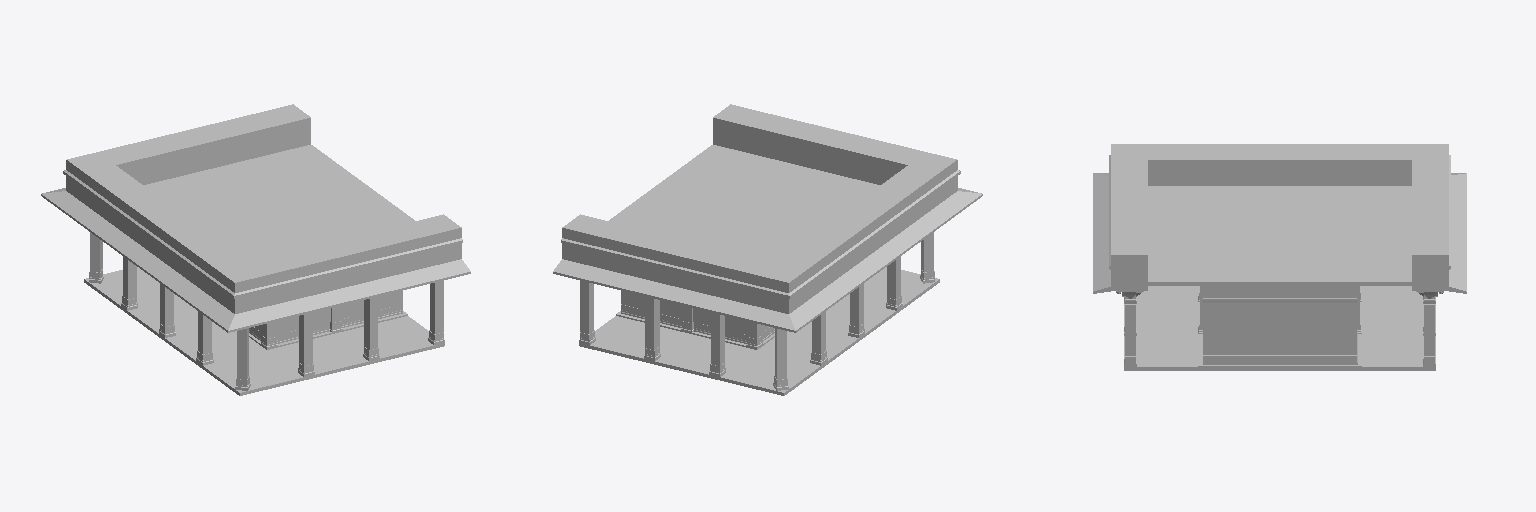
File: Construcao_01_3.obj
The picture shows the model from 3 angles: view 1: azimuth 30°, elevation 25°; view 2: azimuth 150°, elevation 25°; view 3: azimuth 270°, elevation 25°; orthographic projection.
Visible parts, largest first — view 1: Estrutura1, Pilares1 polySurface29, Pilares1 polySurface27, Pilares1 polySurface28, Pilares1 polySurface26, Pilares1 polySurface25, Pilares1 polySurface24, polySurface23 Pilares1, Pilares1 polySurface22; view 2: Estrutura1, Pilares1 polySurface31, Pilares1 polySurface32, Pilares1 polySurface30, Pilares1 polySurface22, polySurface23 Pilares1, Pilares1 polySurface24, Pilares1 polySurface25, Pilares1 polySurface26; view 3: Estrutura1, Pilares1 polySurface32, Pilares1 polySurface29.
Part boxes in pixels (x1,y1,x2,y2): Estrutura1: (41, 104, 470, 395); Pilares1 polySurface29: (428, 281, 444, 344); Pilares1 polySurface27: (298, 312, 314, 376); Pilares1 polySurface28: (363, 296, 379, 360); Pilares1 polySurface26: (235, 328, 250, 390); Pilares1 polySurface25: (196, 311, 213, 365); Pilares1 polySurface24: (159, 284, 175, 337); polySurface23 Pilares1: (121, 256, 137, 310); Pilares1 polySurface22: (89, 232, 103, 283); Estrutura1: (553, 104, 982, 395); Pilares1 polySurface31: (644, 296, 660, 360); Pilares1 polySurface32: (579, 281, 595, 344); Pilares1 polySurface30: (709, 312, 725, 376); Pilares1 polySurface22: (773, 328, 788, 390); polySurface23 Pilares1: (810, 311, 827, 365); Pilares1 polySurface24: (848, 284, 864, 337); Pilares1 polySurface25: (886, 256, 902, 310); Pilares1 polySurface26: (920, 232, 934, 283); Estrutura1: (1093, 144, 1466, 370); Pilares1 polySurface32: (1416, 291, 1443, 366); Pilares1 polySurface29: (1116, 291, 1143, 366).
Bounding box in the file's own units: 44.77 × 21.24 × 59.77.